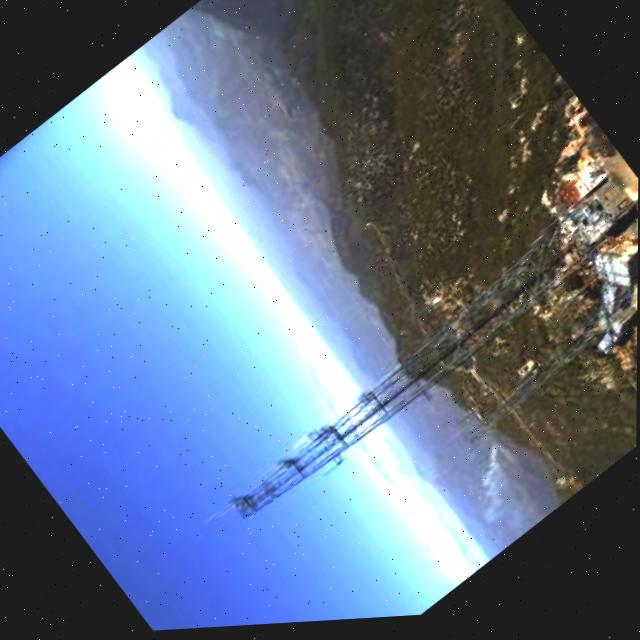Smoke: (438, 437, 545, 551)
